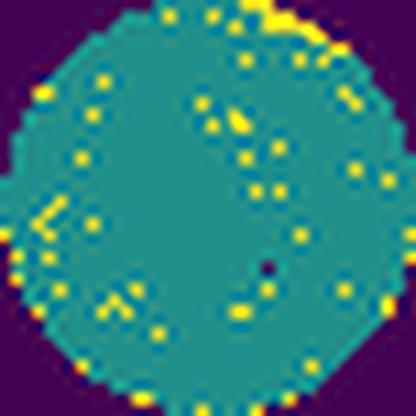Edge-Loc: (235, 0, 343, 57)
